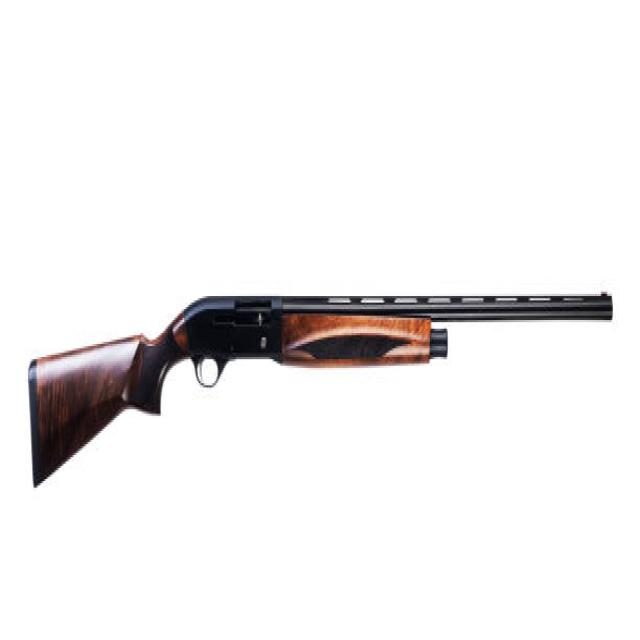rifle: (27, 290, 614, 493)
